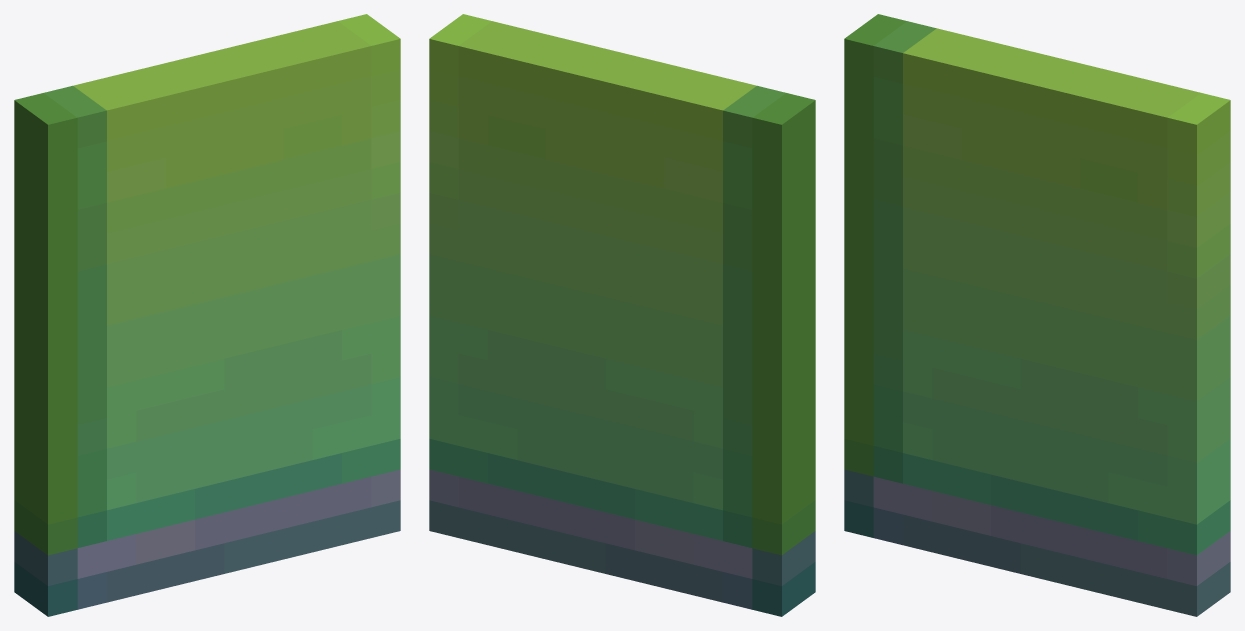
Rendered from green-book.glb.
The picture shows the model from 3 angles, left to right: view 1: azimuth 30°, elevation 25°; view 2: azimuth 150°, elevation 25°; view 3: azimuth 330°, elevation 25°; orthographic projection.
Visible parts, largest first — view 1: prop; view 2: prop; view 3: prop.
Boxes of the visible parts, x1=… form: prop: x1=14, y1=14, x2=400, y2=616; prop: x1=429, y1=14, x2=815, y2=616; prop: x1=844, y1=14, x2=1230, y2=616.
Size of the model in its own units: 12 by 16 by 2.
